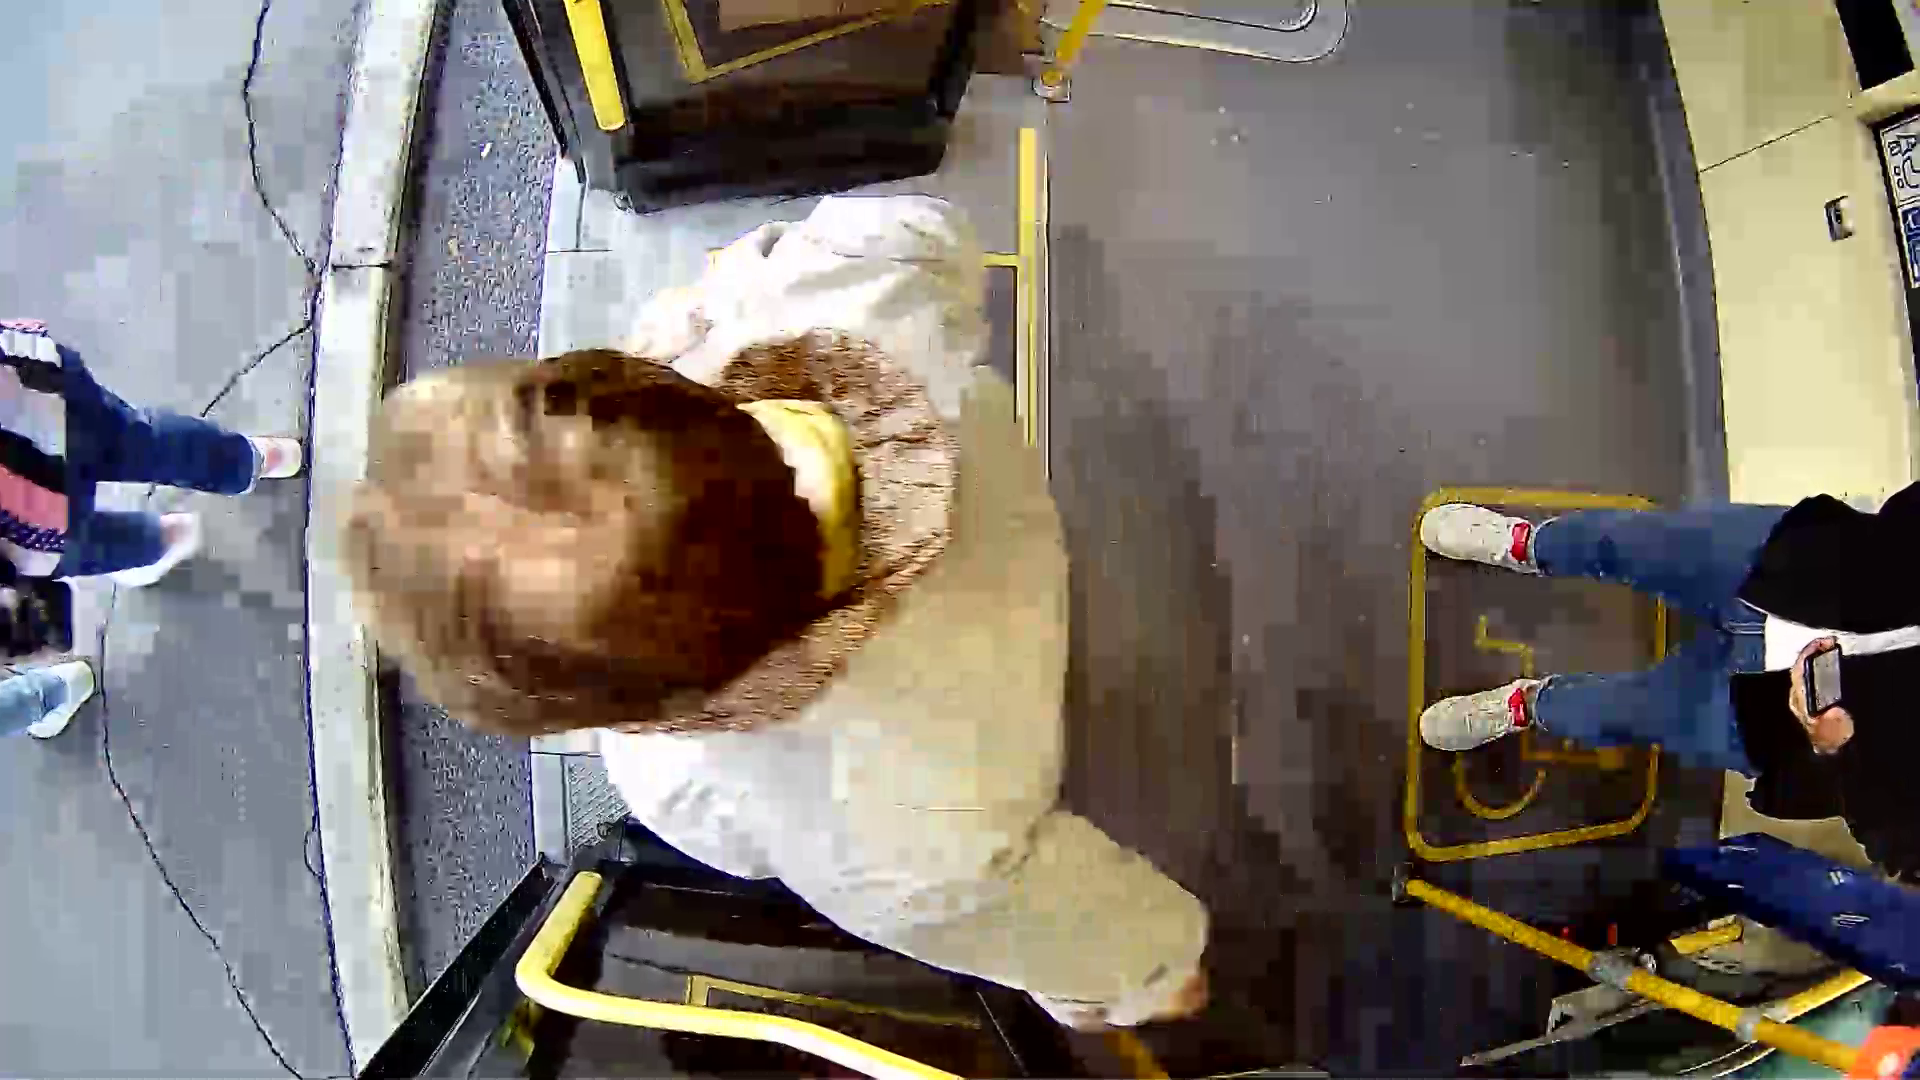person: (363, 210, 1201, 979)
